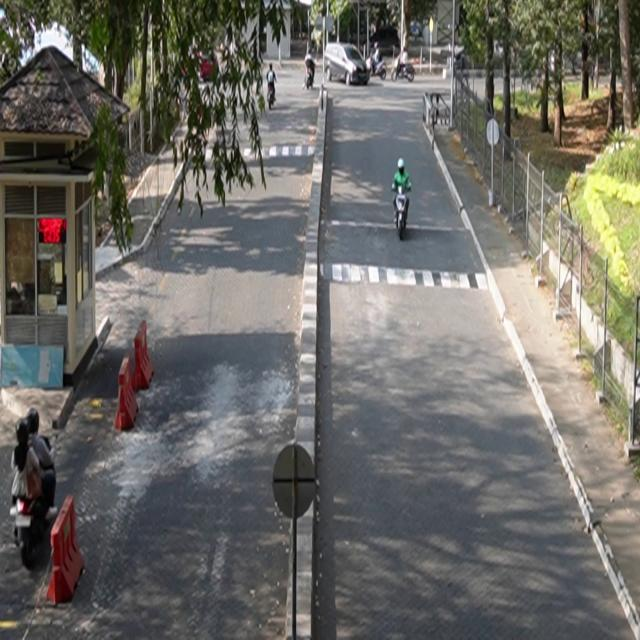car: (325, 43, 371, 86)
